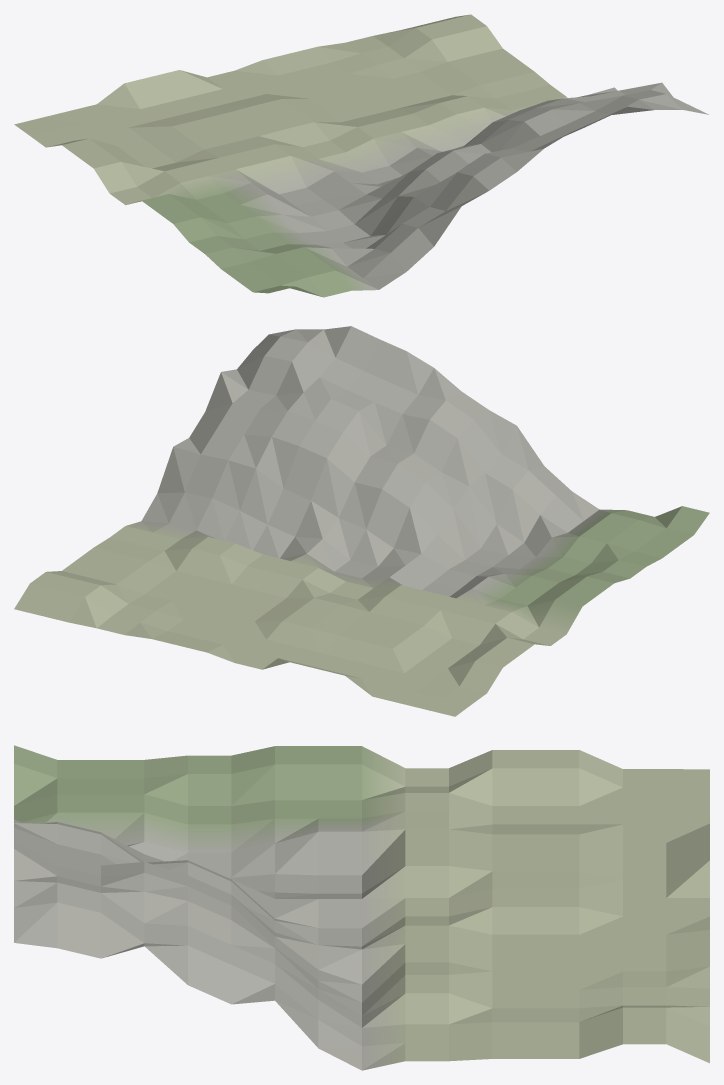
3 renders of one model, top to bottom at view 1: azimuth 30°, elevation 25°; view 2: azimuth 150°, elevation 25°; view 3: azimuth 270°, elevation 25°, orthographic. The views are drawn at different scales.
Bounding box in the file's own units: 32 × 8.93 × 32.
